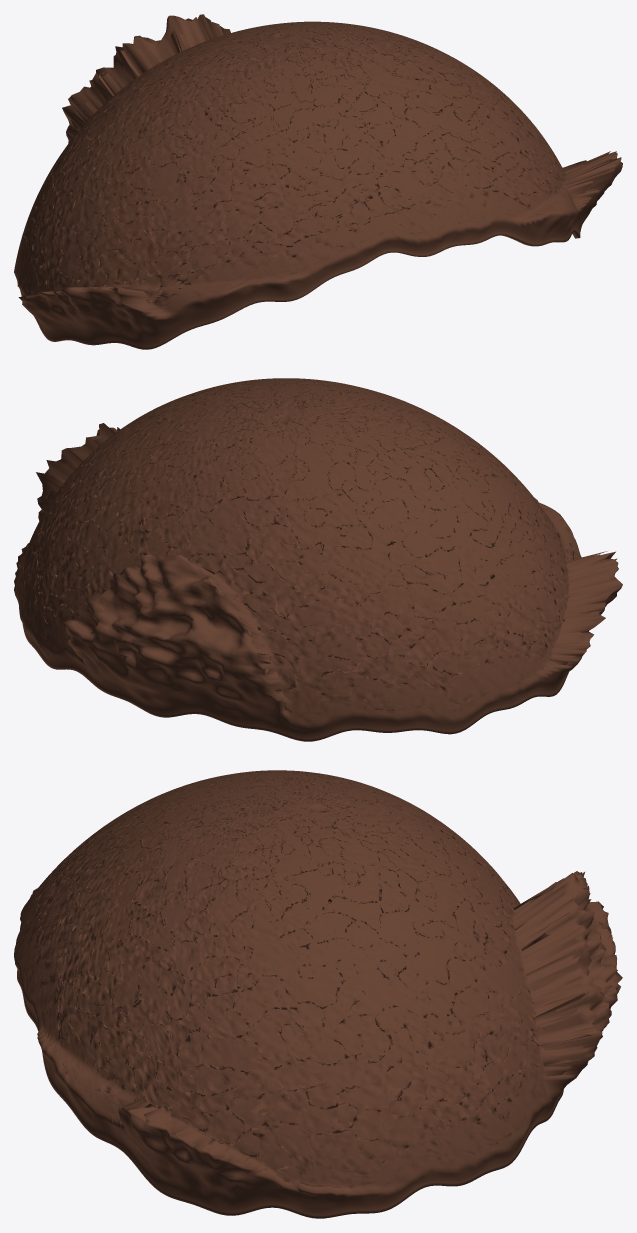
File: Masculine-afro-cap252-hair.glb
3 views of the same model, one above another, from view 1: azimuth 30°, elevation 25°; view 2: azimuth 150°, elevation 25°; view 3: azimuth 270°, elevation 25° (orthographic). The views are drawn at different scales.
Parts seen in each view (by area): view 1: 226 hair / Hair252 / dense natural coil groups.001; view 2: 226 hair / Hair252 / dense natural coil groups.001; view 3: 226 hair / Hair252 / dense natural coil groups.001.
Boxes of the visible parts, box(x1,y1,x2,y2) form: 226 hair / Hair252 / dense natural coil groups.001: box(14, 14, 622, 349); 226 hair / Hair252 / dense natural coil groups.001: box(14, 378, 622, 741); 226 hair / Hair252 / dense natural coil groups.001: box(14, 770, 622, 1218).
Size of the model in its own units: 1.09 by 0.4183 by 0.8446.
